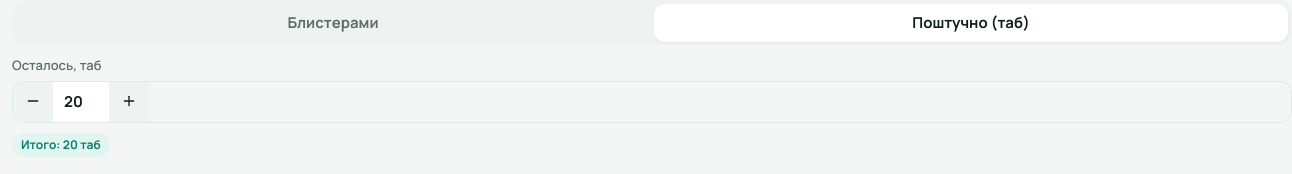
Test: QuantityInput › размер блистера пересчитывает итог
The image size is (1292, 174).
Click the tab "Блистерами": (333, 23) [16,4,650,42]
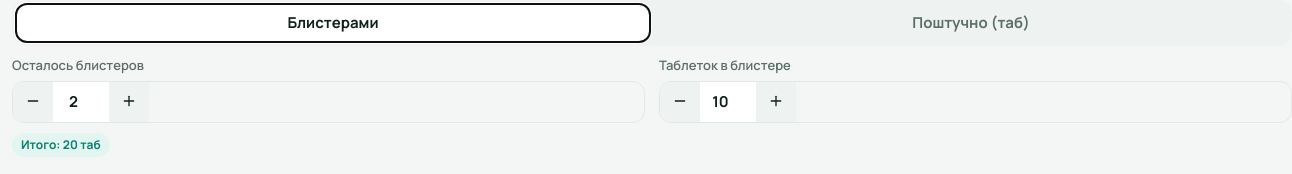
Replace the text in the number field named "Таблеток в блистере" with "14": (728, 102) [700,82,756,122]
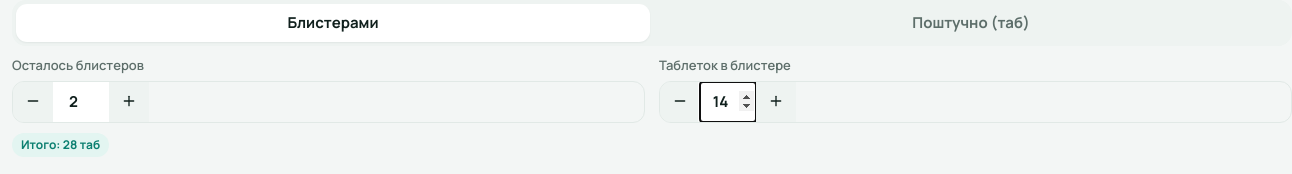
Expected: the text "Итого: 28 таб" is shown, [12,133,109,157]
